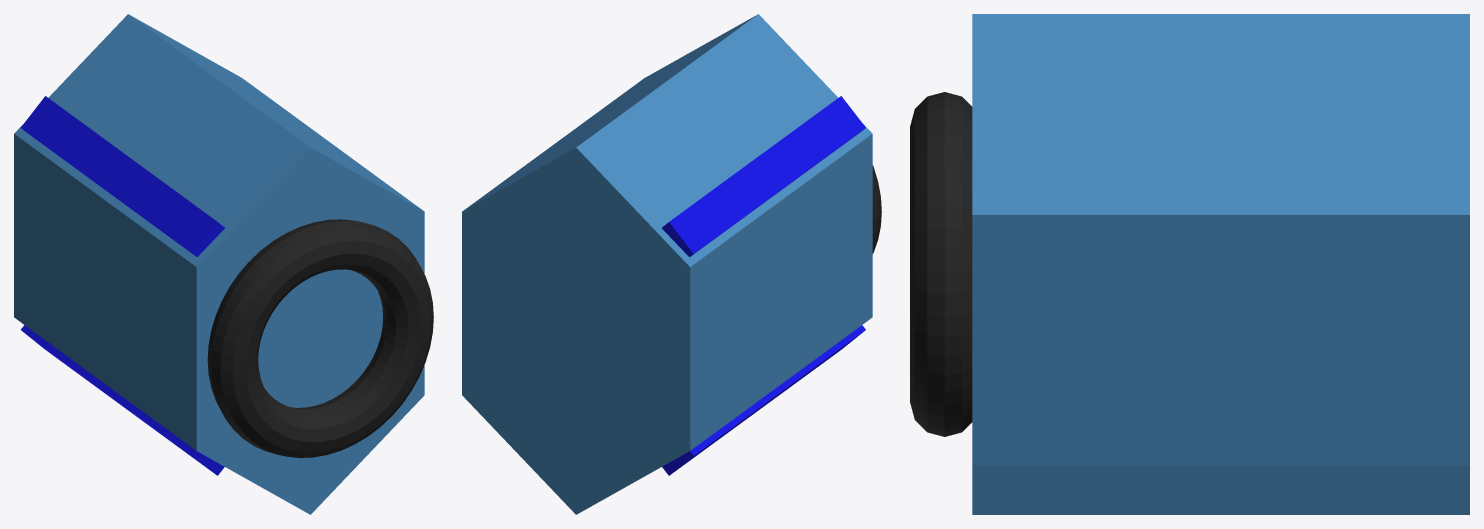
Rendered from EasyEnemyModel.dae.
3 renders of one model, left to right at view 1: azimuth 30°, elevation 25°; view 2: azimuth 150°, elevation 25°; view 3: azimuth 270°, elevation 25°, orthographic. The views are drawn at different scales.
Parts seen in each view (by area): view 1: Cylinder; view 2: Cylinder; view 3: Cylinder.
Part boxes in pixels (bbox=[...]): Cylinder: bbox=[14, 14, 433, 514]; Cylinder: bbox=[462, 14, 881, 514]; Cylinder: bbox=[910, 14, 1469, 514].
Bounding box in the file's own units: 1.3 × 2.03 × 2.
